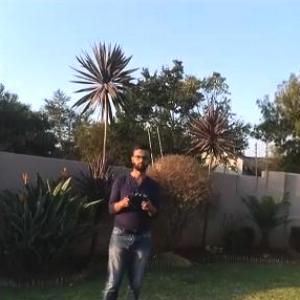follow: (99, 141, 162, 299)
